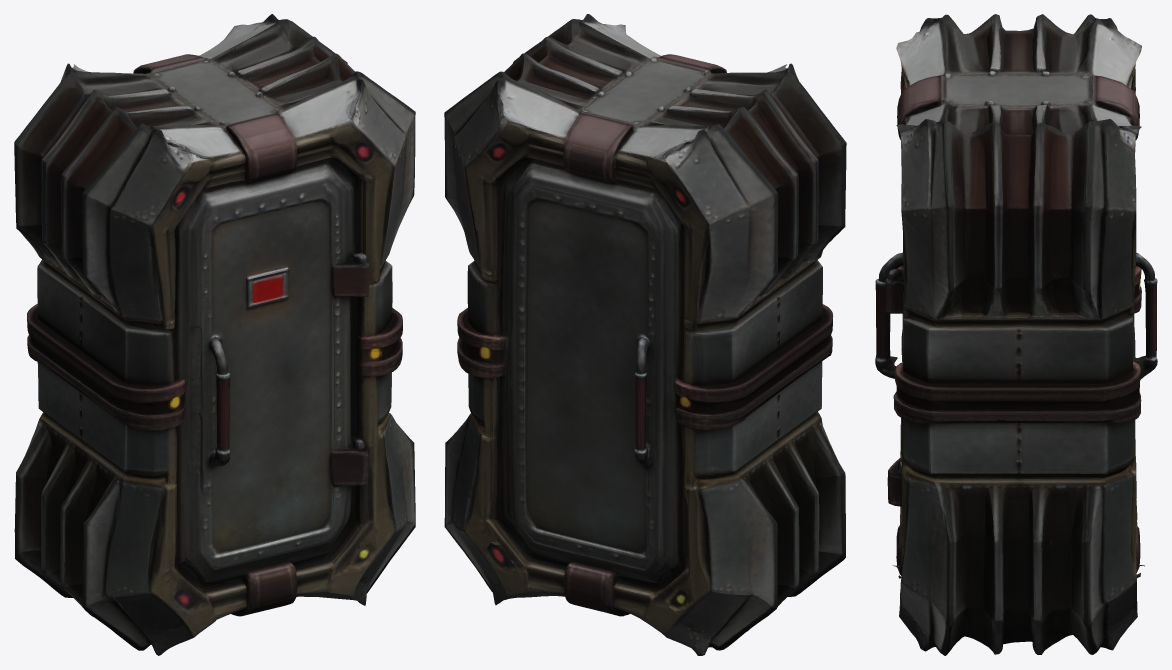
The model's file is stasis_unit.glb.
3 renders of one model, left to right at view 1: azimuth 30°, elevation 25°; view 2: azimuth 150°, elevation 25°; view 3: azimuth 270°, elevation 25°, orthographic.
Parts seen in each view (by area): view 1: world; view 2: world; view 3: world.
Boxes of the visible parts, x1,y1,x2,y2 form: world: (14,14,415,655); world: (444,14,846,655); world: (875,14,1157,655).
Size of the model in its own units: 0.6657 by 1 by 0.4816.
Materials: 1 (1 with a texture image).
